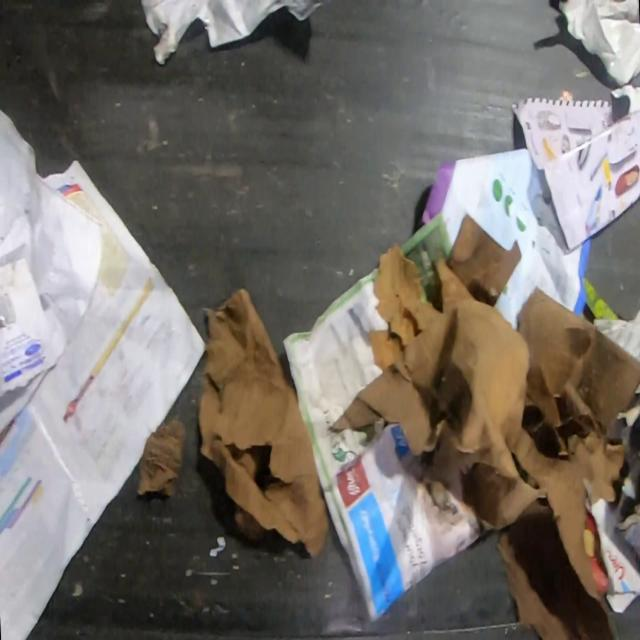cardboard: (330, 209, 640, 638), (198, 286, 328, 557), (138, 418, 186, 499)
